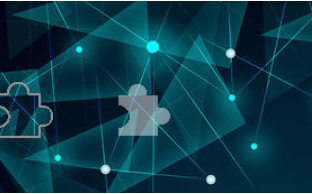target: (105, 83, 182, 144)
